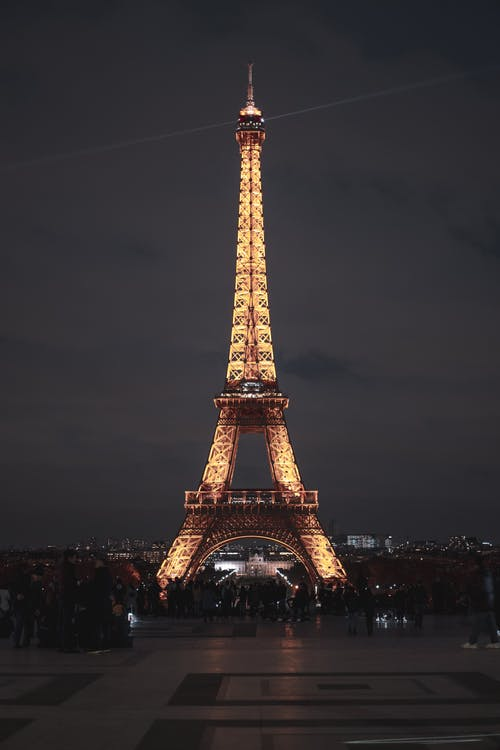eiffel tower: (118, 34, 354, 600)
